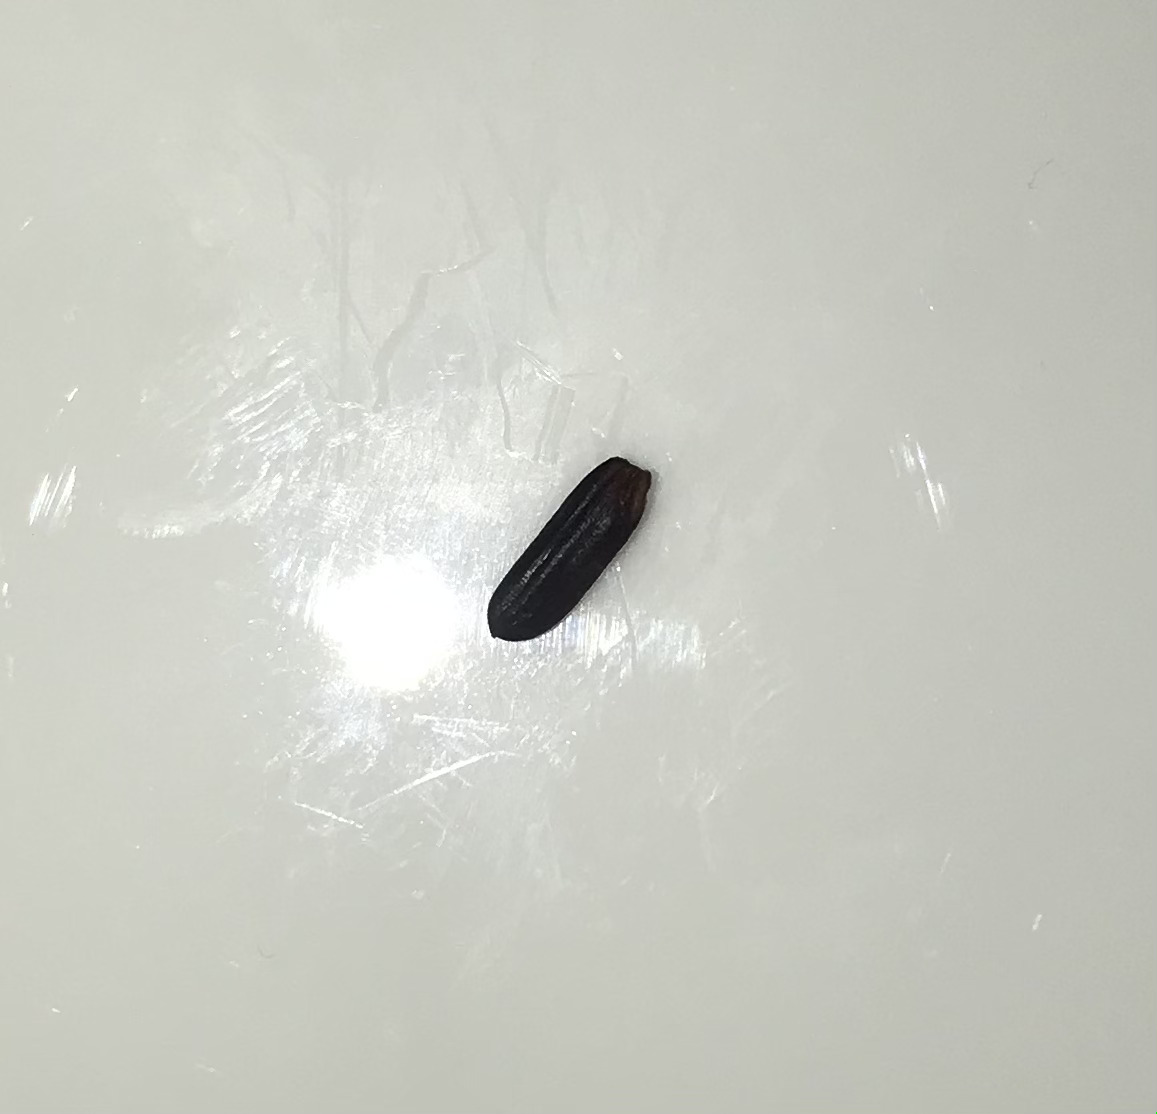Gao lut: (484, 459, 661, 644)
